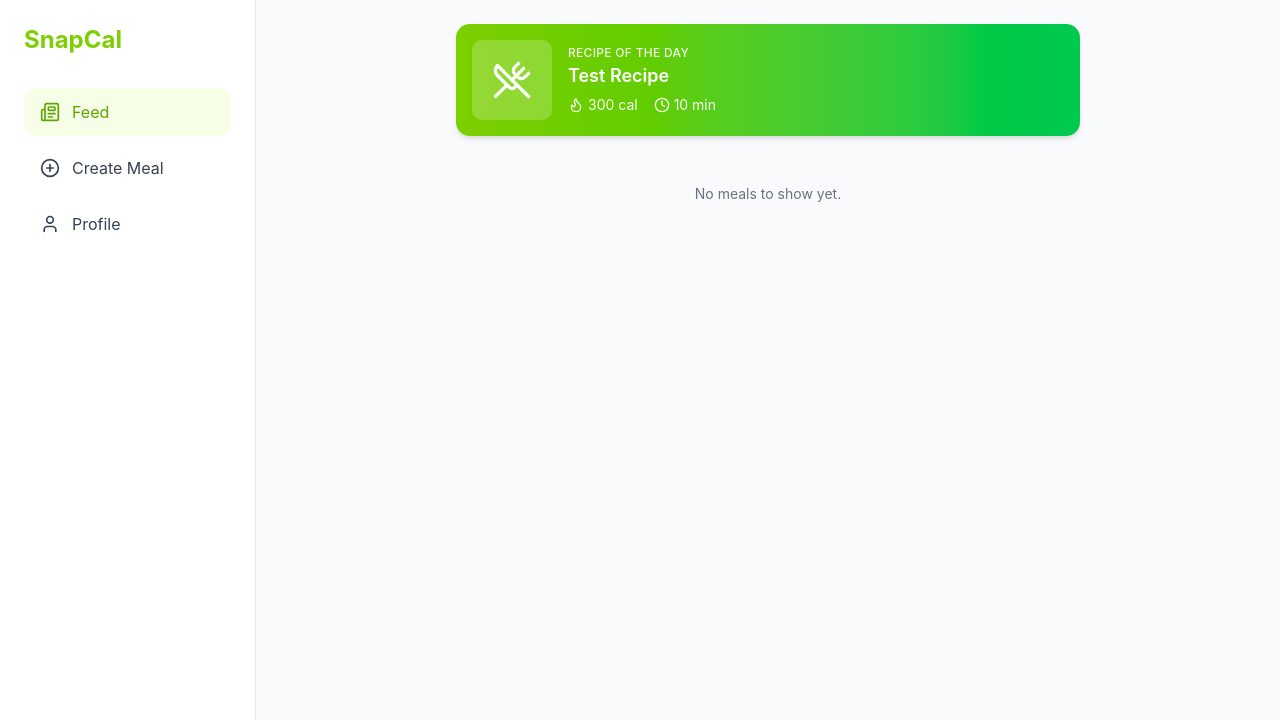
Scenario: Feed › opens recipe detail modal on click
Click the heading "Test Recipe". click: (619, 75)
box: [568, 65, 669, 86]
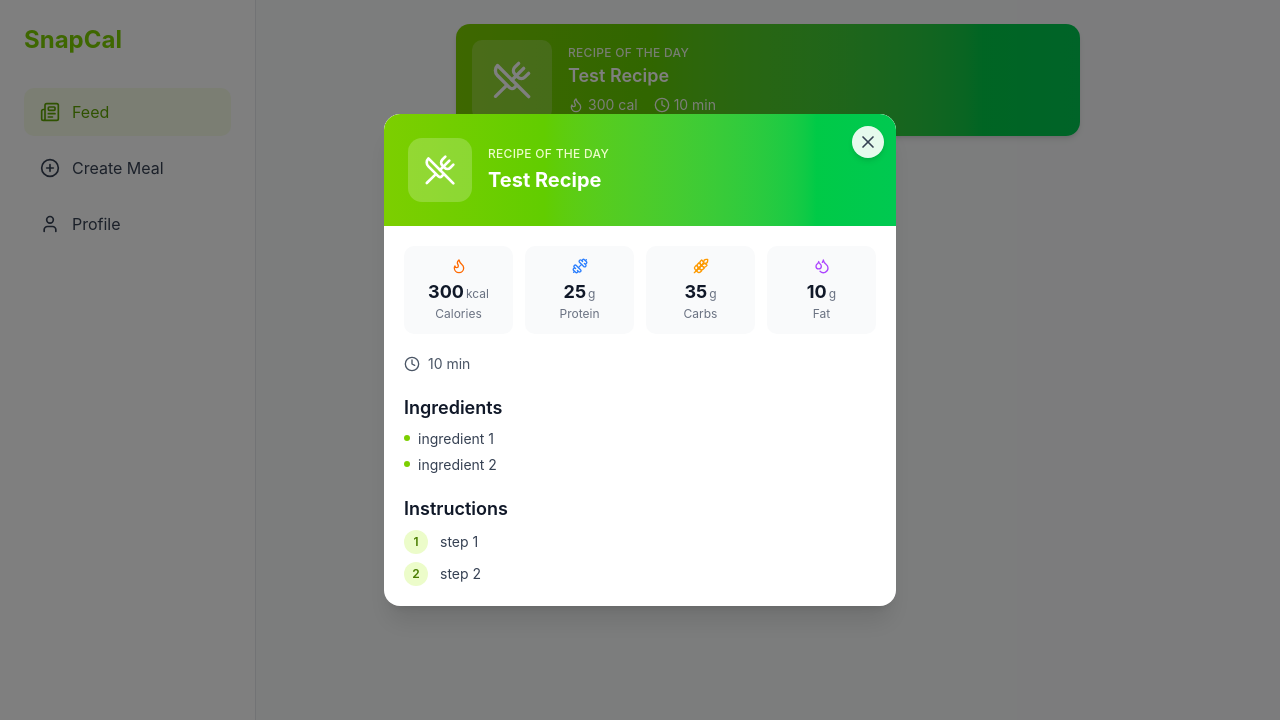
Expected: the list item "ingredient 1" is shown, [404, 430, 494, 447]
Expected: the text "step 1" is shown, [440, 530, 478, 554]
